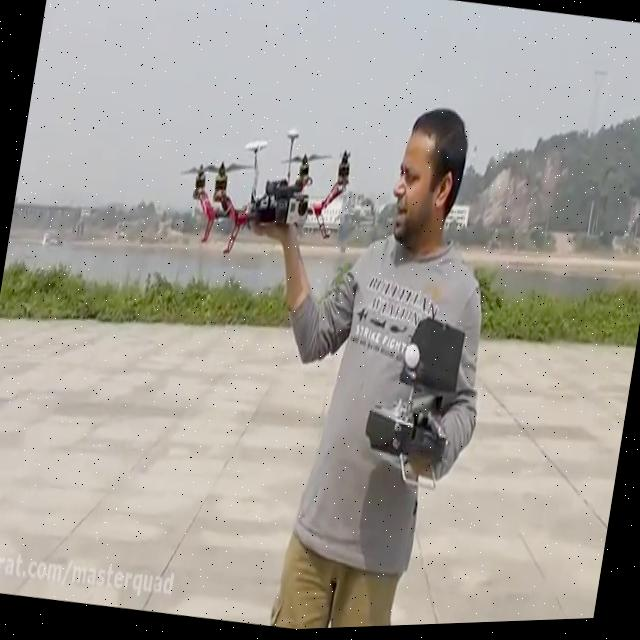drone: (162, 99, 363, 279)
